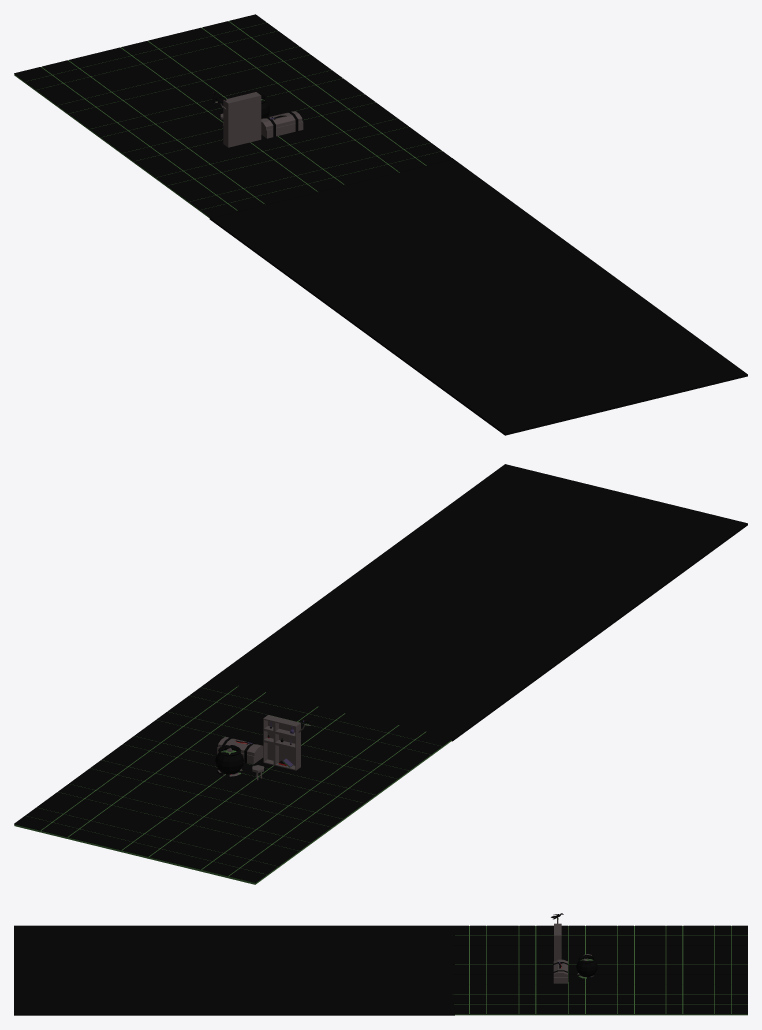
File: Witch Room.fbx
3 renders of one model, top to bottom at view 1: azimuth 30°, elevation 25°; view 2: azimuth 150°, elevation 25°; view 3: azimuth 270°, elevation 25°, orthographic. The views are drawn at different scales.
Parts seen in each view (by area): view 1: Cube.020; view 2: Cube.020; view 3: Cube.020.
Part boxes in pixels (left/top/right/bottom): Cube.020: left=14, top=14, right=747, bottom=435; Cube.020: left=14, top=464, right=747, bottom=884; Cube.020: left=14, top=913, right=747, bottom=1015.
Size of the model in its own units: 3021 by 694 by 10595.
